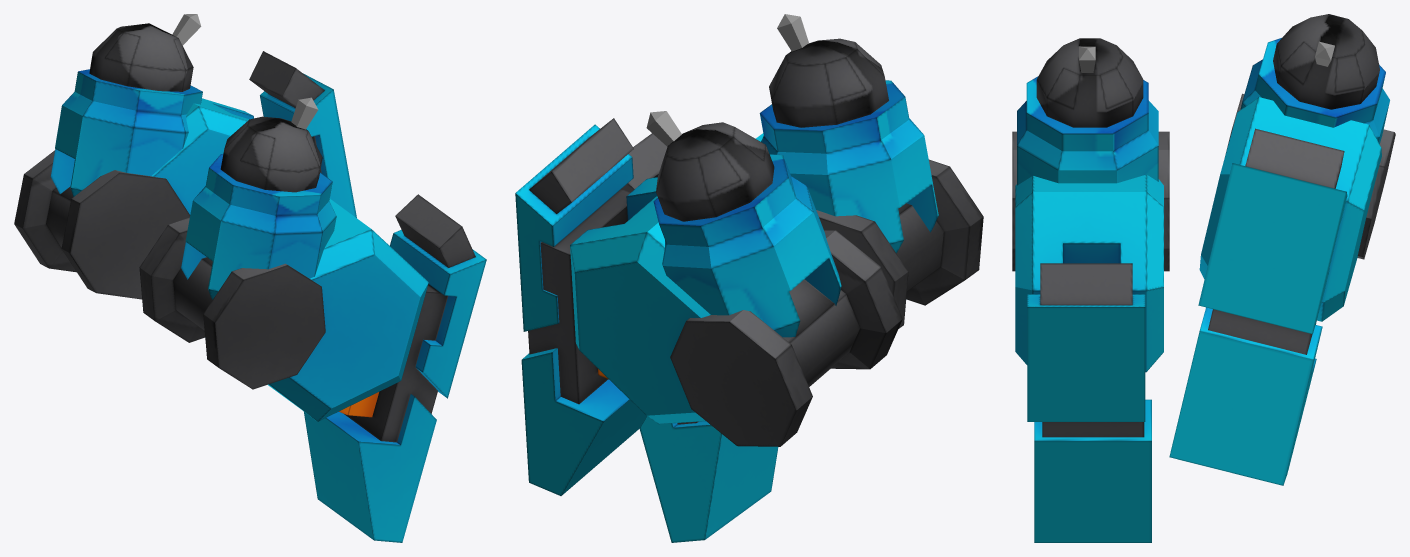
Rendered from Bottom_Running26.obj.
3 views of the same model, side by side, from view 1: azimuth 30°, elevation 25°; view 2: azimuth 150°, elevation 25°; view 3: azimuth 270°, elevation 25° (orthographic). The views are drawn at different scales.
Parts seen in each view (by area): view 1: Object013, Object014, Object010, Object012, Object009, Object011, Bone023; view 2: Object010, Object011, Object009, Object012, Object014, Object013, Bone023, Bone006; view 3: Object011, Object014, Object013, Object012, Object009, Object010.
Part boxes in pixels (<box>): Object013: <box>139,199,428,421</box>; Object014: <box>303,194,486,542</box>; Object010: <box>14,98,253,299</box>; Object012: <box>181,116,336,299</box>; Object009: <box>50,23,202,196</box>; Object011: <box>249,51,356,217</box>; Bone023: <box>291,97,318,129</box>; Object010: <box>570,177,902,446</box>; Object011: <box>515,118,646,495</box>; Object009: <box>653,122,841,337</box>; Object012: <box>759,38,938,253</box>; Object014: <box>622,133,778,542</box>; Object013: <box>755,133,983,328</box>; Bone023: <box>777,14,808,51</box>; Bone006: <box>646,111,681,146</box>; Object011: <box>1169,128,1347,485</box>; Object014: <box>1027,263,1151,542</box>; Object013: <box>1012,131,1169,372</box>; Object012: <box>1017,38,1158,185</box>; Object009: <box>1240,14,1389,143</box>; Object010: <box>1199,93,1395,321</box>.
Bounding box in the file's own units: 91.48 × 122 × 91.98.
